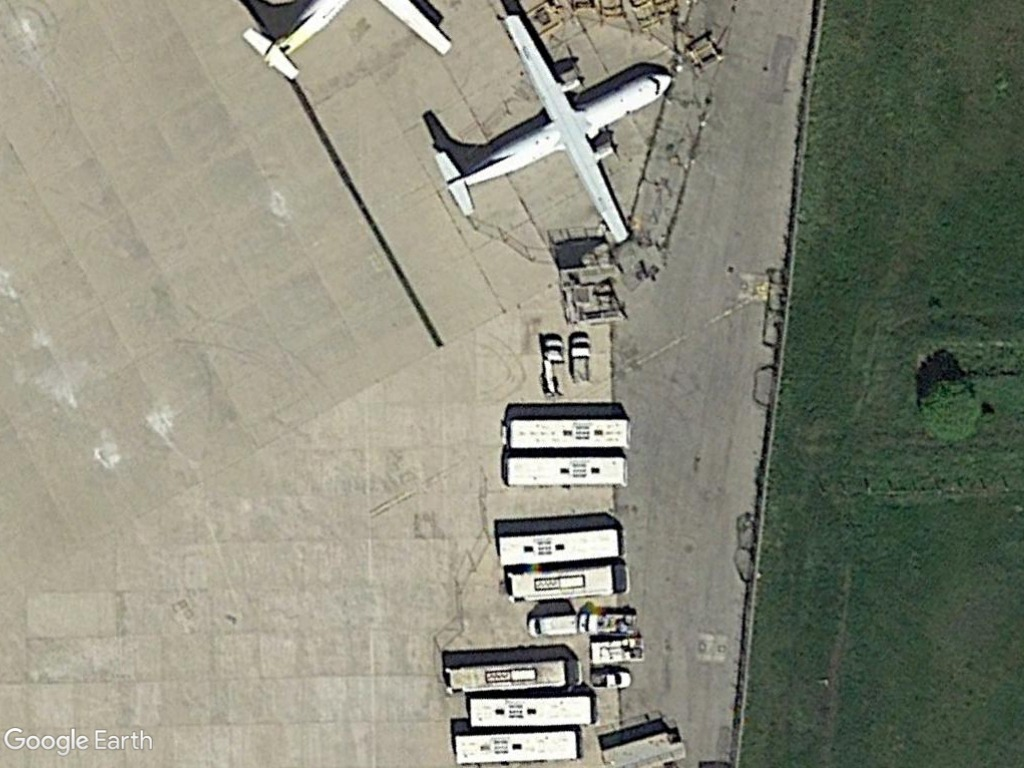bus: (438, 648, 584, 696), (492, 519, 625, 569), (448, 722, 587, 767), (498, 408, 633, 454), (499, 560, 630, 603), (463, 692, 596, 728), (497, 455, 631, 488)
other: (540, 331, 568, 400), (588, 634, 645, 666), (567, 329, 592, 392), (590, 666, 634, 691)
propeller: (428, 2, 678, 257)
van: (525, 609, 582, 640)
